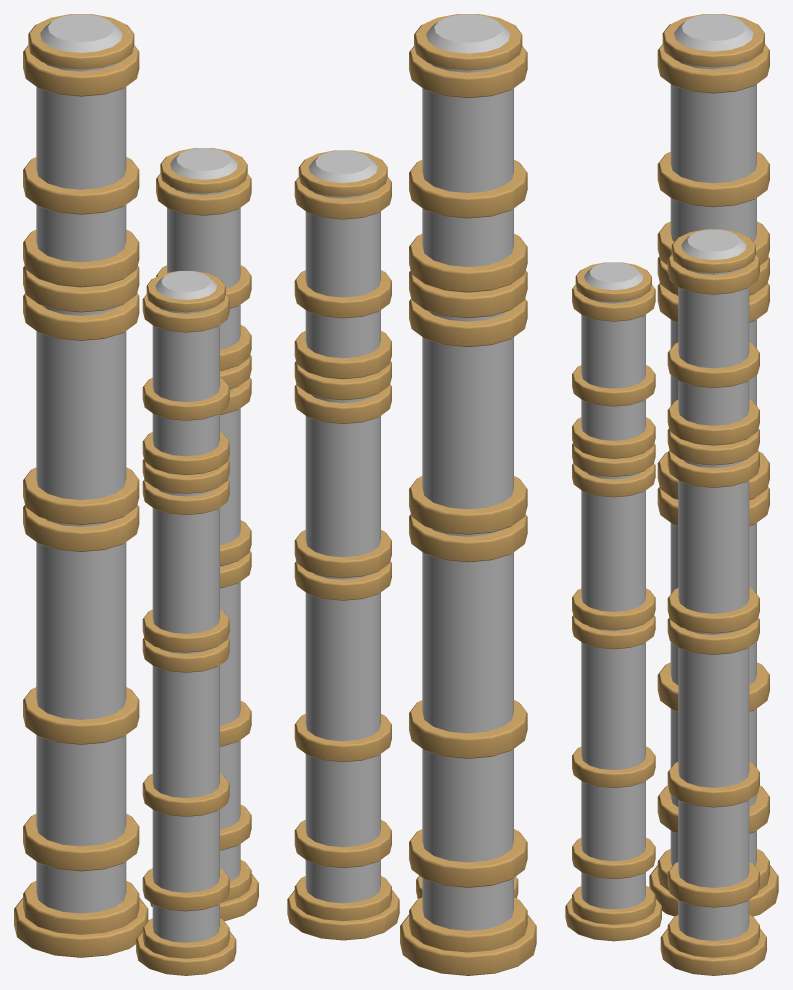
File: Pipes_01b.fbx
3 renders of one model, left to right at view 1: azimuth 30°, elevation 25°; view 2: azimuth 150°, elevation 25°; view 3: azimuth 270°, elevation 25°, orthographic. The views are drawn at different scales.
Visible parts, largest first — view 1: Pipes_01b; view 2: Pipes_01b; view 3: Pipes_01b.
Boxes of the visible parts, x1,y1,x2,y2 form: Pipes_01b: (14, 14, 258, 975); Pipes_01b: (287, 14, 536, 975); Pipes_01b: (565, 14, 778, 975).
Bounding box in the file's own units: 166 × 629 × 140.
